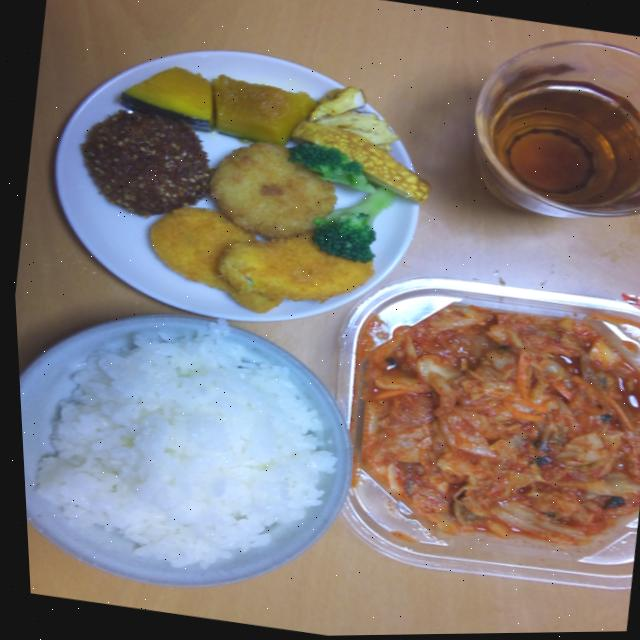米饭主食: (55, 103, 442, 383)
